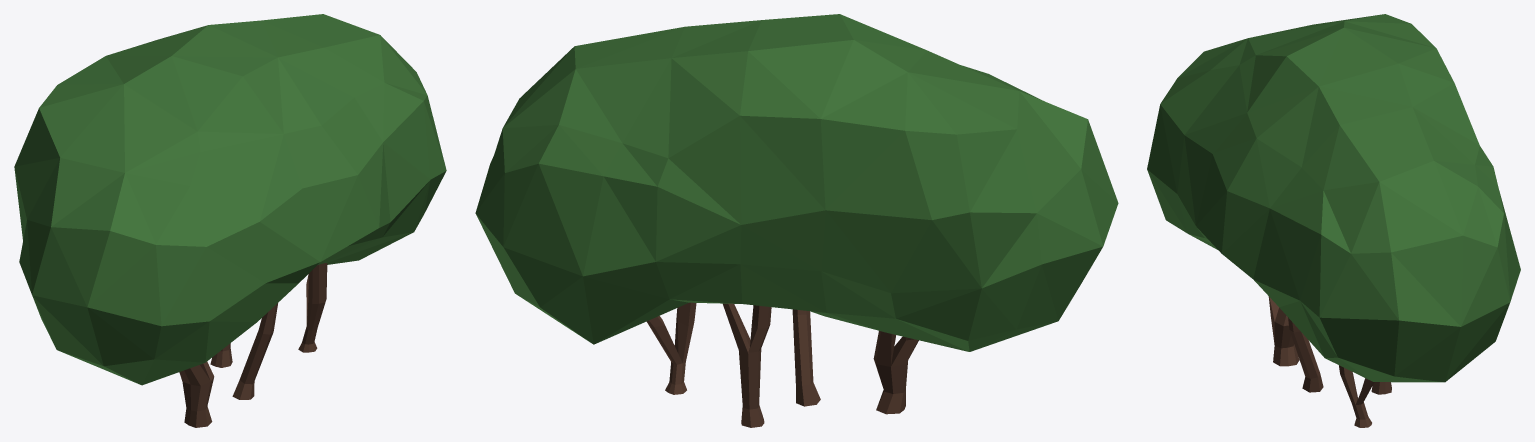
File: BerryBush1.fbx
The picture shows the model from 3 angles, left to right: view 1: azimuth 30°, elevation 25°; view 2: azimuth 150°, elevation 25°; view 3: azimuth 270°, elevation 25°; orthographic projection. The views are drawn at different scales.
Visible parts, largest first — view 1: Berry.001; view 2: Berry.001; view 3: Berry.001.
Part boxes in pixels (left/top/right/bottom): Berry.001: left=14, top=14, right=446, bottom=427; Berry.001: left=475, top=14, right=1118, bottom=427; Berry.001: left=1147, top=14, right=1520, bottom=427.
Size of the model in its own units: 181 by 126 by 128.
